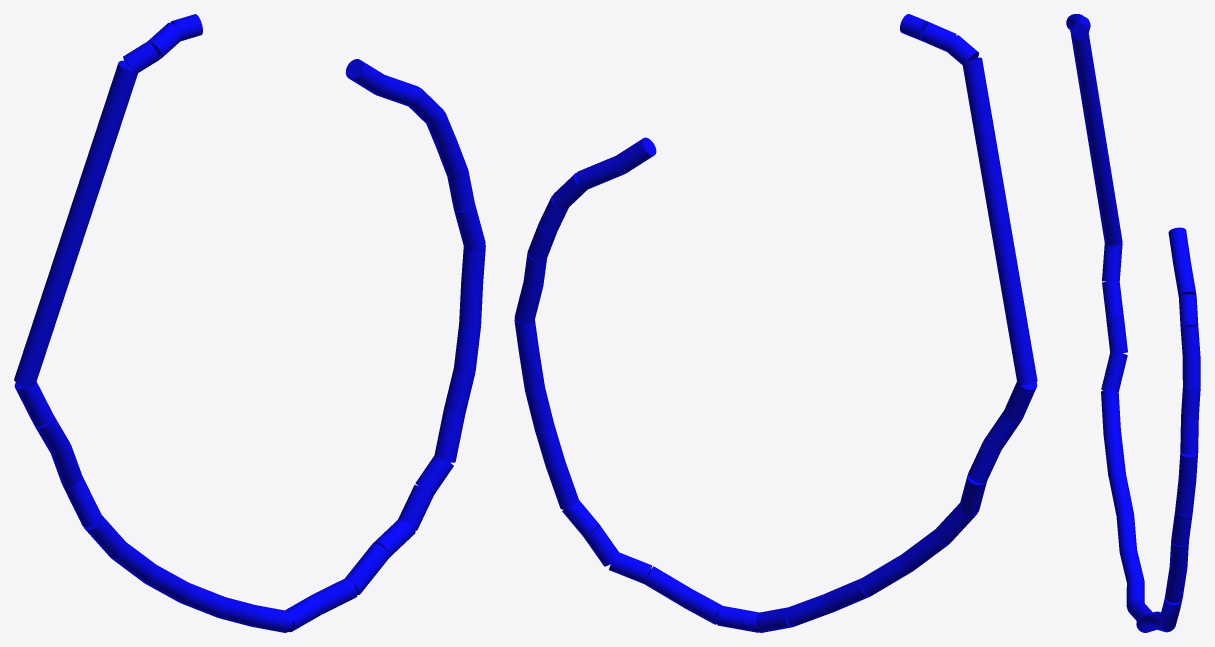
The picture shows the model from 3 angles, left to right: view 1: azimuth 30°, elevation 25°; view 2: azimuth 150°, elevation 25°; view 3: azimuth 270°, elevation 25°; orthographic projection. The views are drawn at different scales.
Visible parts, largest first — view 1: Cylinder(Clone) (×31); view 2: Cylinder(Clone) (×22); view 3: Cylinder(Clone) (×28).
Part boxes in pixels (left/top/right/bottom): Cylinder(Clone) (×31): left=14, top=22, right=485, bottom=632; Cylinder(Clone) (×22): left=514, top=57, right=1037, bottom=632; Cylinder(Clone) (×28): left=1070, top=16, right=1200, bottom=632.
Bounding box in the file's own units: 0.2689 × 0.3351 × 0.0753.
